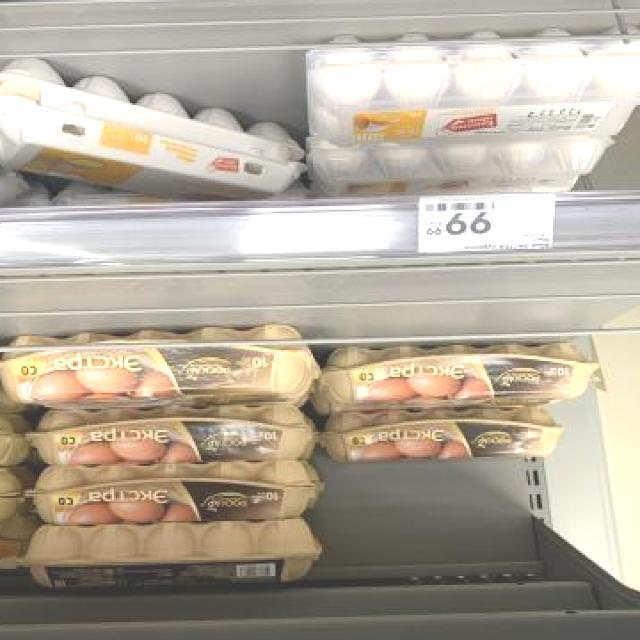egg: (0, 48, 299, 204), (300, 26, 640, 146), (0, 320, 322, 409), (21, 456, 336, 530), (318, 338, 599, 412), (24, 398, 321, 468), (317, 404, 570, 467), (0, 512, 41, 576), (0, 407, 30, 468), (0, 464, 20, 526)
